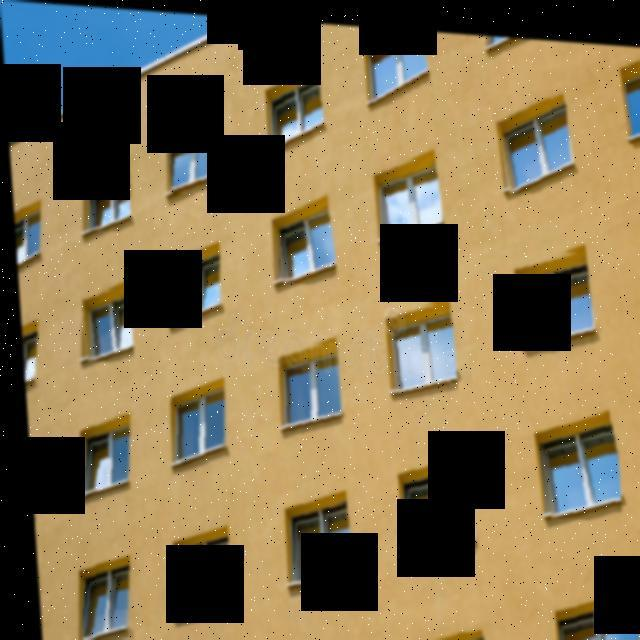Window: (510, 234, 600, 348), (530, 399, 616, 514), (381, 290, 454, 398), (396, 450, 469, 558), (494, 86, 570, 188), (274, 334, 338, 432), (282, 493, 346, 590), (375, 149, 442, 239), (165, 524, 230, 616), (268, 198, 334, 282), (546, 581, 639, 640), (366, 21, 431, 100), (72, 414, 132, 497), (162, 382, 222, 462), (70, 559, 128, 640), (267, 74, 330, 148), (166, 243, 220, 329), (72, 283, 130, 363), (166, 122, 220, 194), (81, 162, 132, 230), (11, 206, 42, 274), (485, 28, 559, 54), (617, 54, 640, 135), (398, 622, 478, 640), (18, 331, 38, 391), (23, 456, 32, 525)
